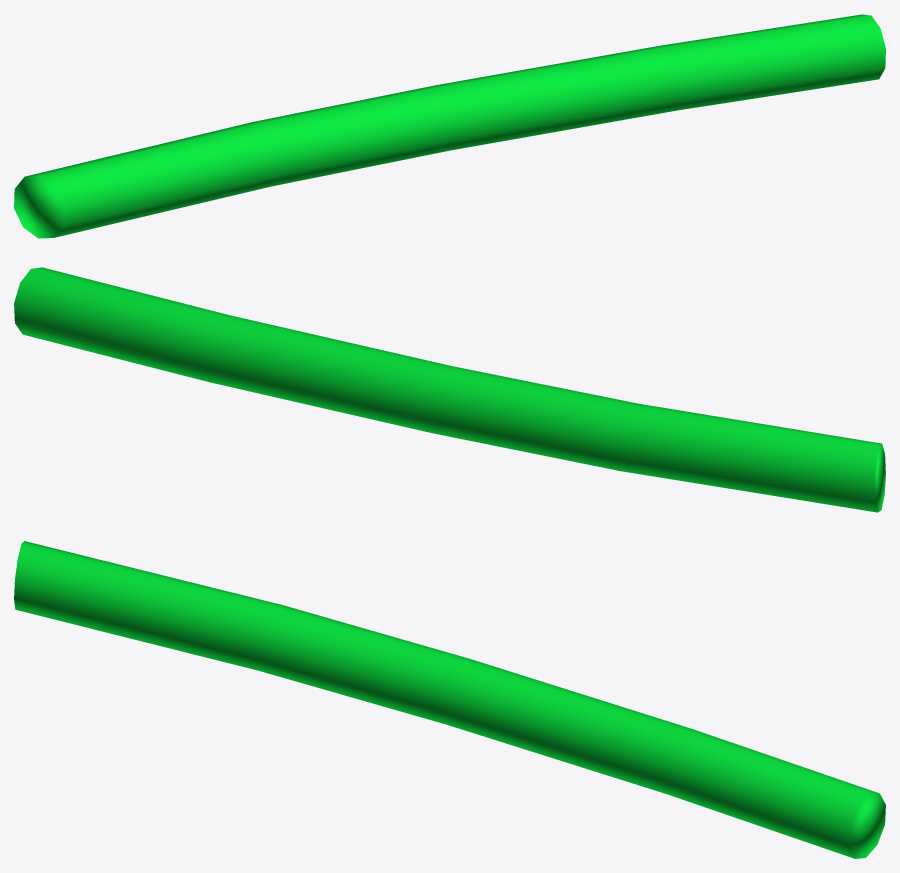
The model's file is Pipe_Turn_E_Int.fbx.
3 views of the same model, one above another, from view 1: azimuth 30°, elevation 25°; view 2: azimuth 150°, elevation 25°; view 3: azimuth 330°, elevation 25° (orthographic). The views are drawn at different scales.
Visible parts, largest first — view 1: Pipe_Turn_E_Int; view 2: Pipe_Turn_E_Int; view 3: Pipe_Turn_E_Int.
Boxes of the visible parts, x1,y1,x2,y2 form: Pipe_Turn_E_Int: [14, 14, 885, 238]; Pipe_Turn_E_Int: [14, 267, 885, 512]; Pipe_Turn_E_Int: [14, 541, 885, 858].
Bounding box in the file's own units: 3.19 × 0.3534 × 0.3231.
